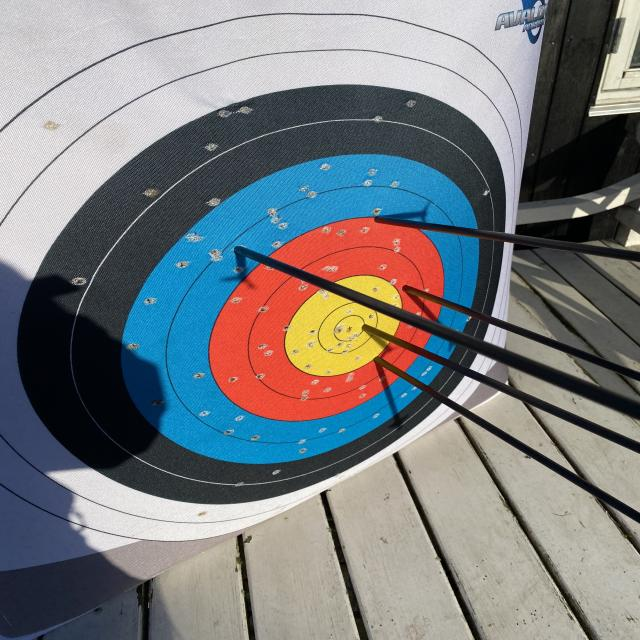Arrow_Blue: (222, 227, 275, 271)
Arrow_Red: (347, 202, 403, 236), (356, 346, 394, 373), (392, 276, 427, 302)
Arrow_Yellow: (354, 314, 376, 338)
